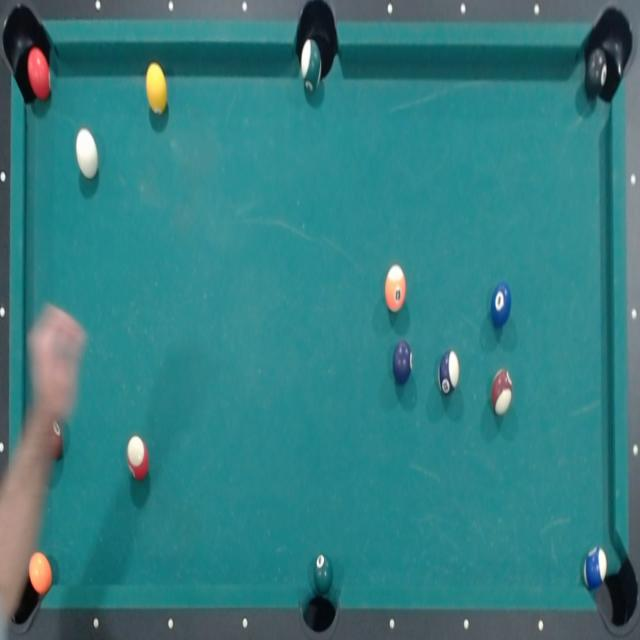black_8ball: (584, 47, 608, 101)
blue_solid: (490, 281, 513, 329)
blue_stripe: (583, 545, 608, 590)
cue_ball: (74, 127, 102, 182)
green_solid: (313, 552, 335, 596)
green_stripe: (300, 38, 324, 92)
maroon_solid: (50, 421, 65, 462)
maroon_stripe: (490, 366, 514, 416)
orange_solid: (27, 551, 54, 594)
orange_stripe: (384, 264, 406, 316)
player_hand: (24, 292, 87, 434)
purple_solid: (392, 338, 413, 388)
purple_stripe: (438, 348, 460, 398)
red_solid: (26, 48, 54, 99)
red_stripe: (126, 433, 152, 480)
yellow_solid: (144, 62, 170, 116)
